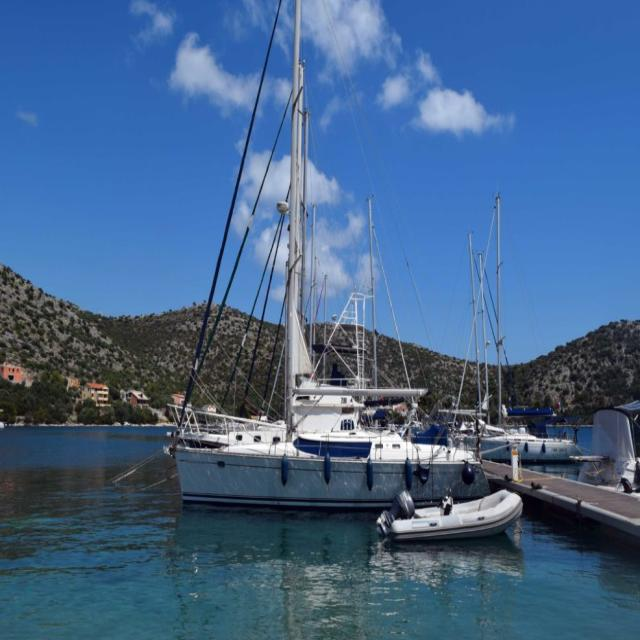houseboat: (180, 404, 484, 530)
